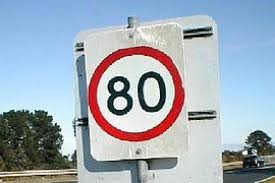Speed_limit_80km: (88, 47, 185, 142)
